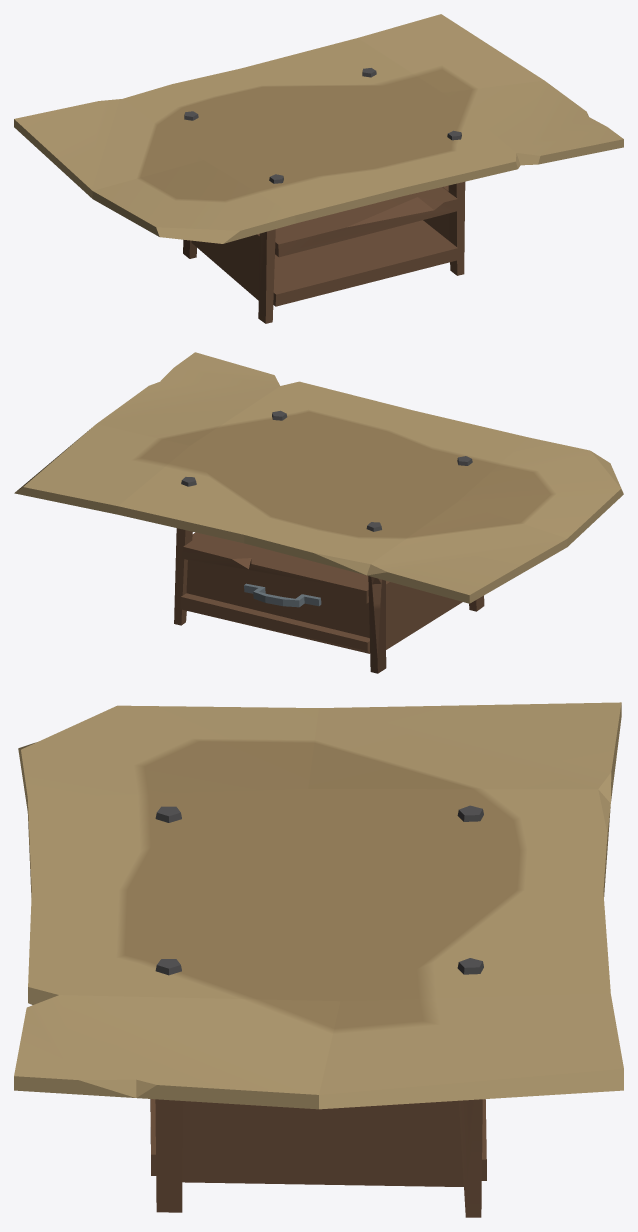
The model's file is SM_Prop_Makeshift_Table_02.glb.
3 renders of one model, top to bottom at view 1: azimuth 30°, elevation 25°; view 2: azimuth 150°, elevation 25°; view 3: azimuth 270°, elevation 25°, orthographic. The views are drawn at different scales.
Visible parts, largest first — view 1: SM_Prop_Makeshift_Table_02; view 2: SM_Prop_Makeshift_Table_02; view 3: SM_Prop_Makeshift_Table_02.
Part boxes in pixels (box(x1,y1,x2,y2)): SM_Prop_Makeshift_Table_02: box(14, 14, 623, 323); SM_Prop_Makeshift_Table_02: box(14, 352, 623, 673); SM_Prop_Makeshift_Table_02: box(14, 702, 623, 1217).
Bounding box in the file's own units: 2.58 × 0.7654 × 1.72.
1 material, 1 textured.
